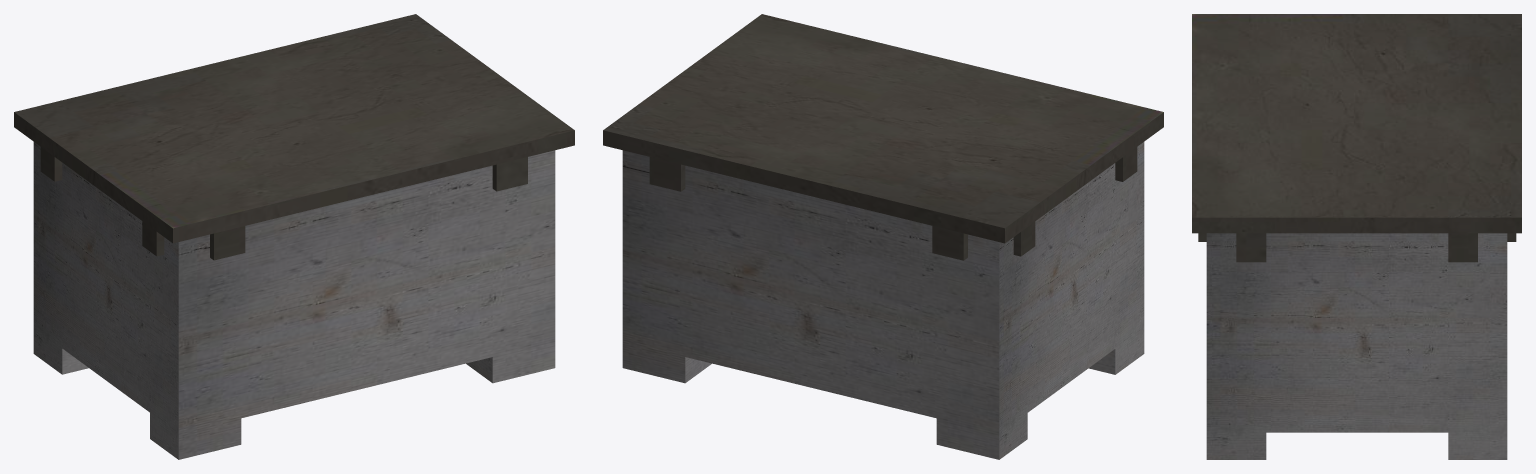
File: chest2023.glb
The picture shows the model from 3 angles, left to right: view 1: azimuth 30°, elevation 25°; view 2: azimuth 150°, elevation 25°; view 3: azimuth 270°, elevation 25°; orthographic projection. The views are drawn at different scales.
Visible parts, largest first — view 1: chest; view 2: chest; view 3: chest.
Part boxes in pixels (x1,y1,x2,y2): chest: (14,14,574,459); chest: (603,14,1163,459); chest: (1192,14,1521,459).
Size of the model in its own units: 0.96 by 0.5474 by 0.6574.
Materials: 1 (1 with a texture image).
